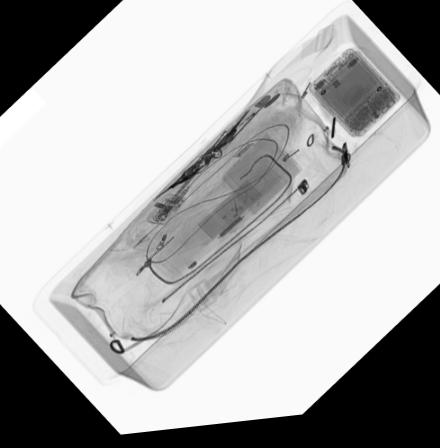Lighter: (226, 92, 281, 144)
